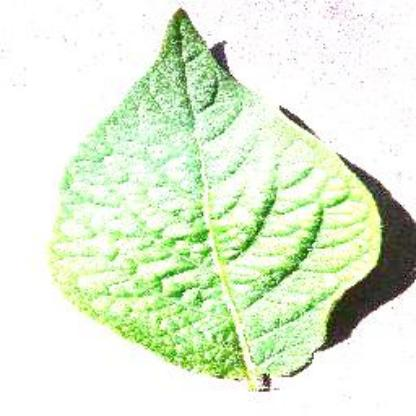Healthy-plant: (43, 7, 393, 395)
